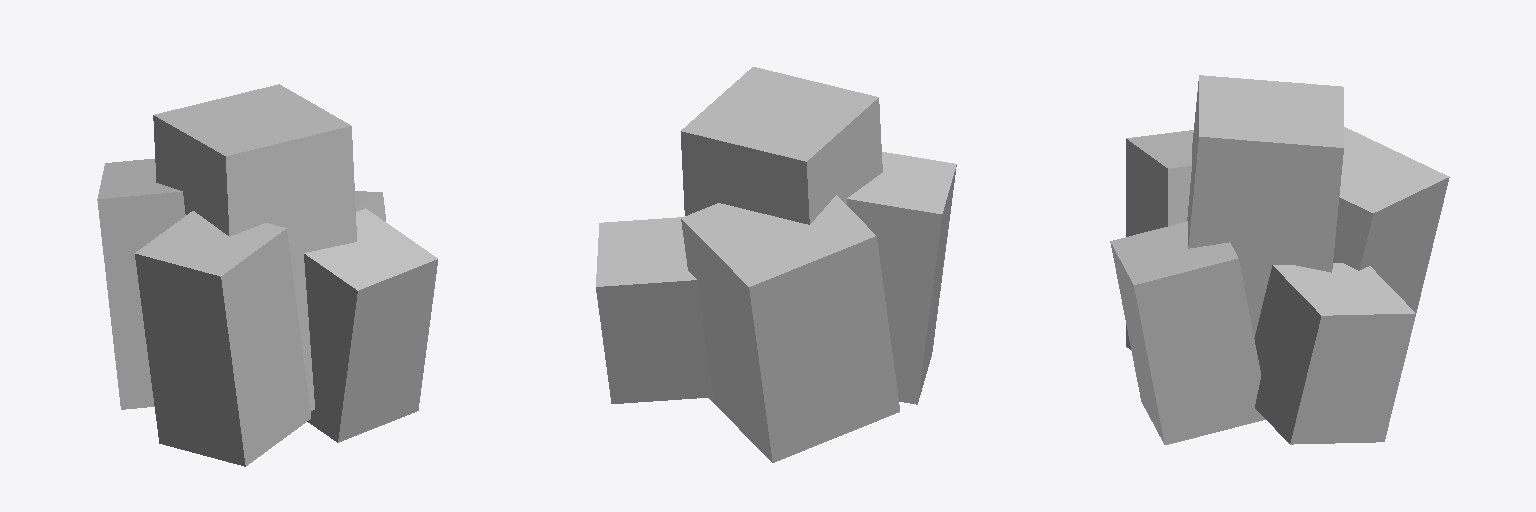
File: testItemModel.obj
3 views of the same model, side by side, from view 1: azimuth 30°, elevation 25°; view 2: azimuth 150°, elevation 25°; view 3: azimuth 270°, elevation 25° (orthographic).
Parts seen in each view (by area): view 1: cube; view 2: cube; view 3: cube.
Part boxes in pixels (bbox=[...]): cube: bbox=[97, 84, 437, 466]; cube: bbox=[596, 67, 956, 462]; cube: bbox=[1110, 75, 1449, 444].
Bounding box in the file's own units: 0.5863 × 0.5546 × 0.5831.